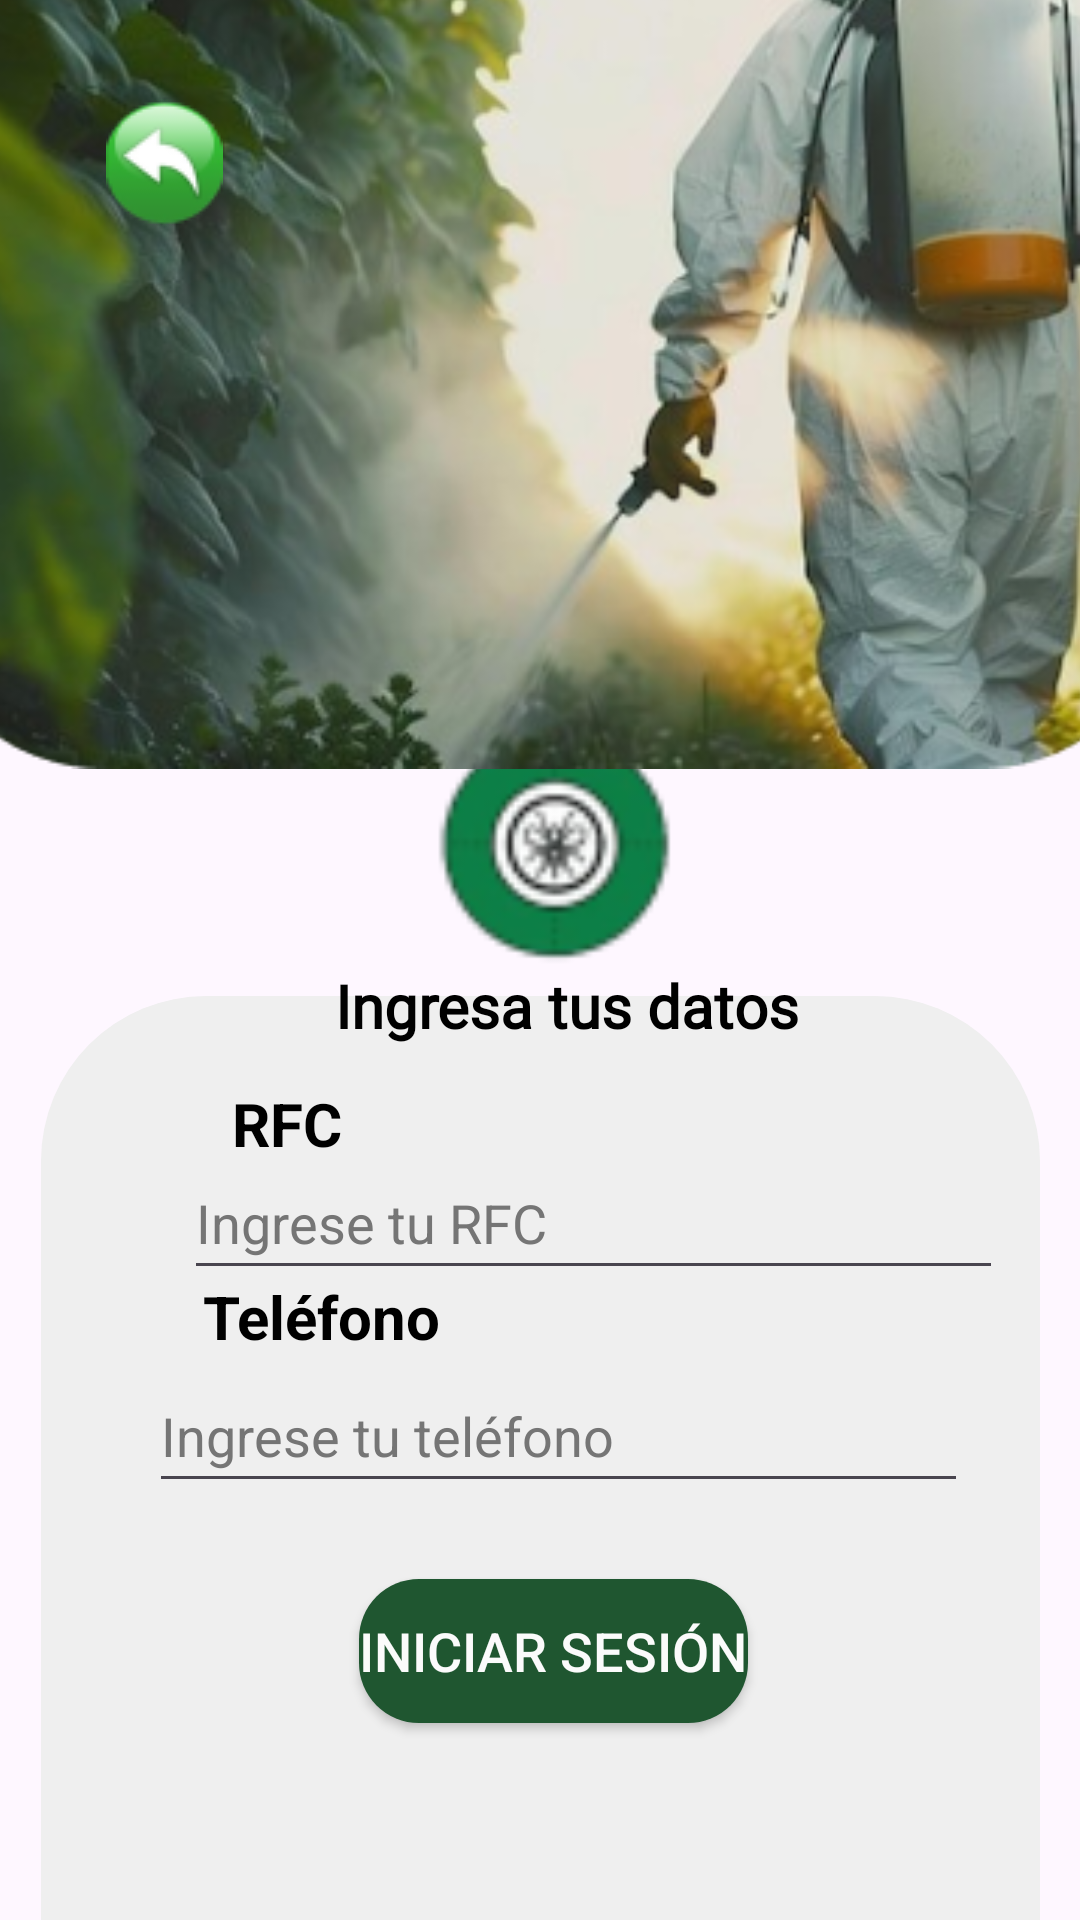

Where to tap for icons on this 1080px×1920px app screen, as (x,y):
Flecha para regresar: (164,163)
